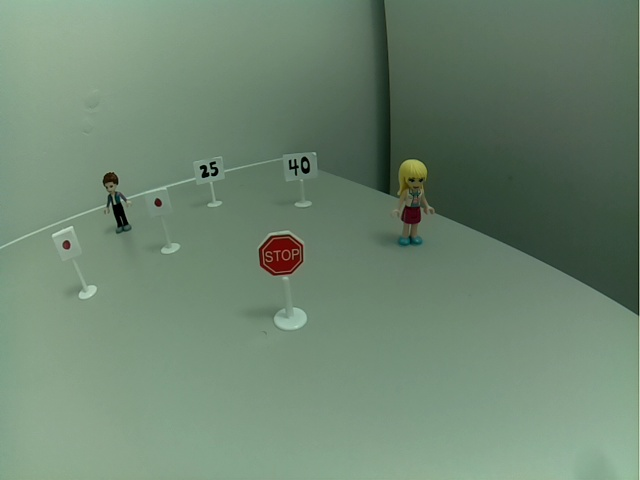people: (389, 157, 436, 250), (98, 171, 134, 235)
red light: (49, 224, 82, 264), (144, 187, 174, 220)
speed 25: (191, 155, 225, 184)
speed 40: (280, 149, 319, 184)
stop: (255, 229, 307, 280)
